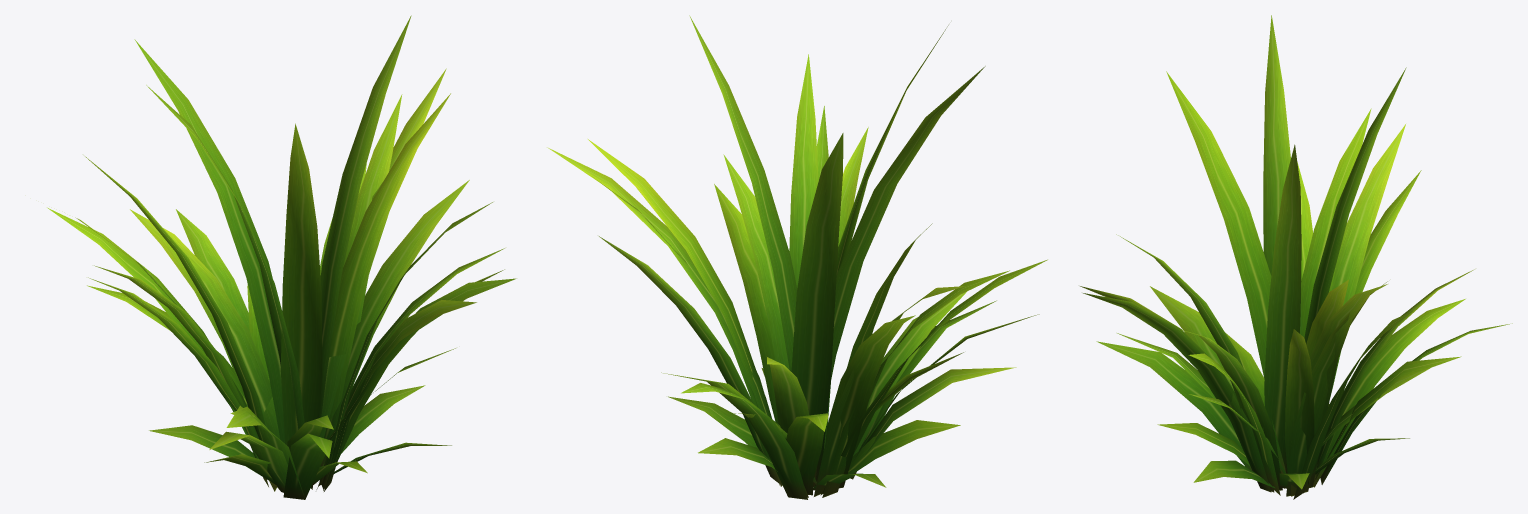
The model's file is IO_Grass_Clump_C.glb.
The picture shows the model from 3 angles, left to right: view 1: azimuth 30°, elevation 25°; view 2: azimuth 150°, elevation 25°; view 3: azimuth 270°, elevation 25°; orthographic projection. The views are drawn at different scales.
Visible parts, largest first — view 1: IO_Grass_Clump_C_LOD0; view 2: IO_Grass_Clump_C_LOD0; view 3: IO_Grass_Clump_C_LOD0.
Boxes of the visible parts, bbox=[...] form: IO_Grass_Clump_C_LOD0: bbox=[47, 15, 516, 499]; IO_Grass_Clump_C_LOD0: bbox=[547, 15, 1047, 499]; IO_Grass_Clump_C_LOD0: bbox=[1080, 15, 1512, 499].
Size of what is drawn, in the model's own units: 0.6154 by 0.6137 by 0.6058.
Materials: 1 (1 with a texture image).
